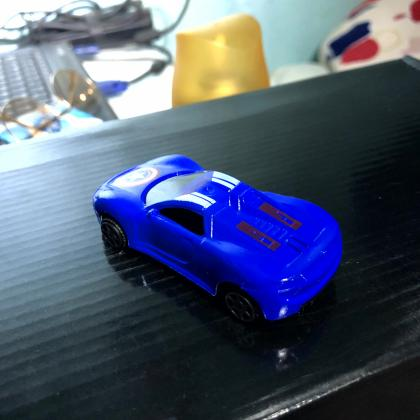Car: (92, 156, 343, 326)
